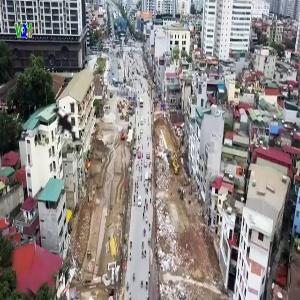drone: (37, 90, 106, 159)
